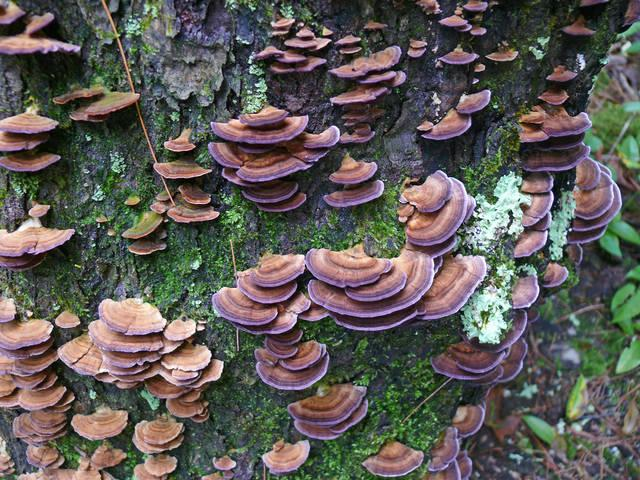Non-edible Mushroom: (0, 0, 640, 470)
